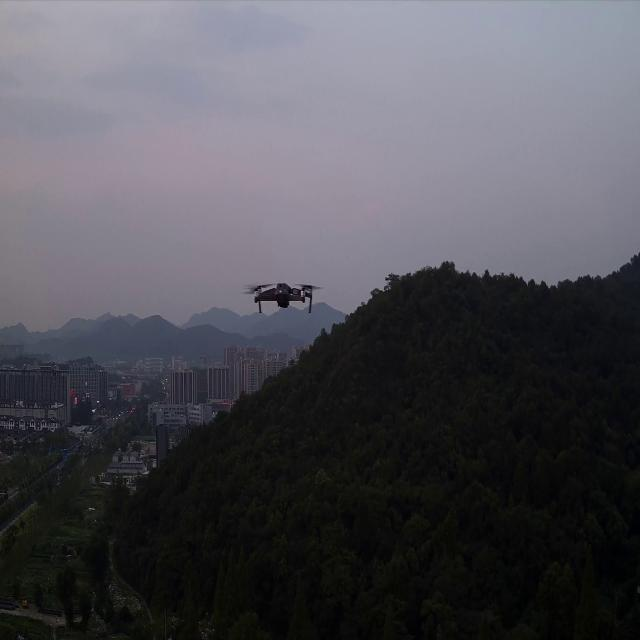UAV: (239, 278, 325, 316)
